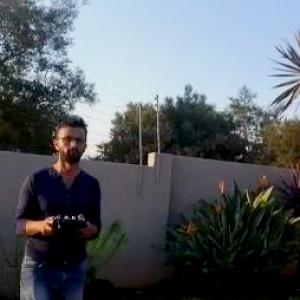follow: (11, 112, 107, 299)
